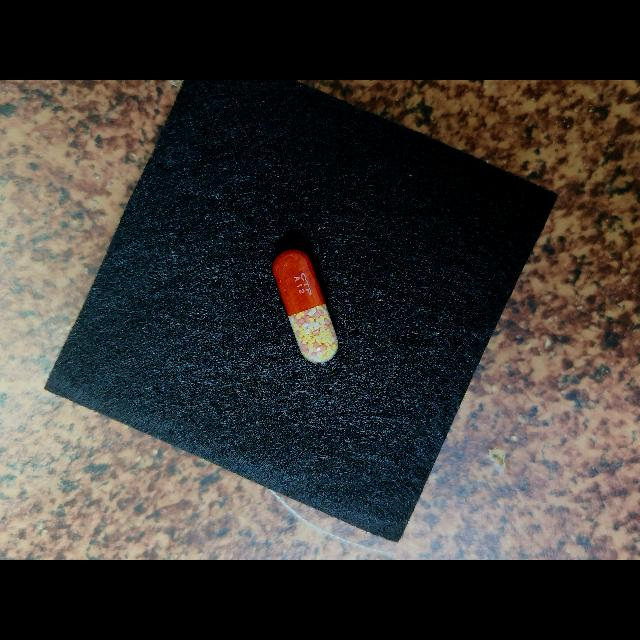Intact Capsule: (272, 249, 338, 363)
